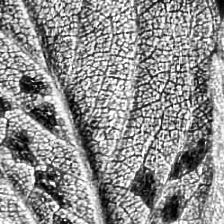Angular Leafspot: (0, 0, 222, 224), (194, 0, 224, 224)
